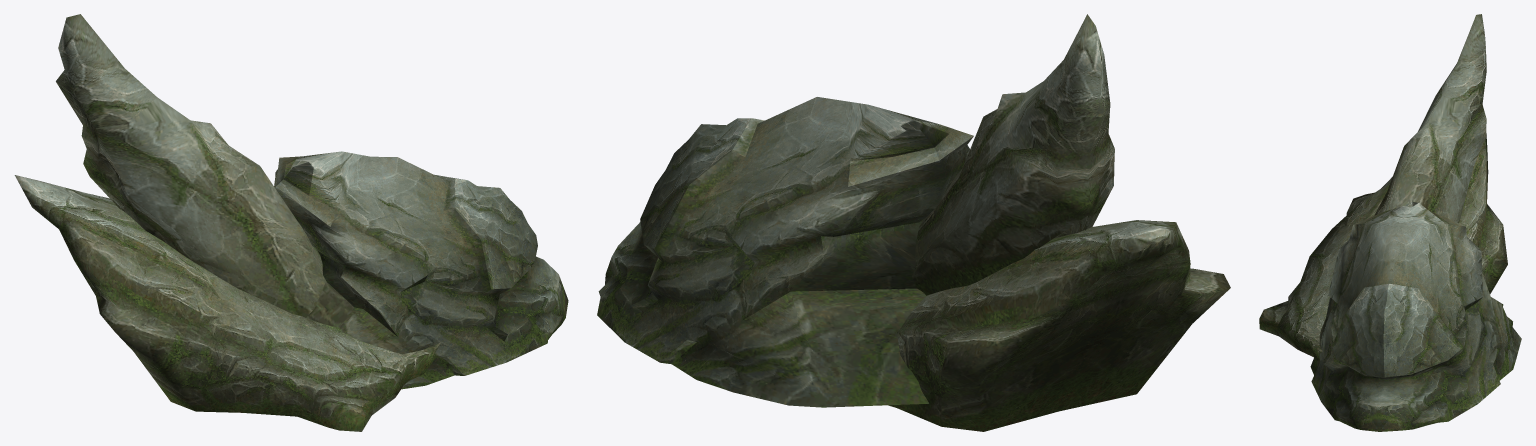
The model's file is 3014_Item_shitou_01.FBX.
3 renders of one model, left to right at view 1: azimuth 30°, elevation 25°; view 2: azimuth 150°, elevation 25°; view 3: azimuth 270°, elevation 25°, orthographic. The views are drawn at different scales.
Visible parts, largest first — view 1: 3014_Item_shitou_01; view 2: 3014_Item_shitou_01; view 3: 3014_Item_shitou_01.
Part boxes in pixels (left/top/right/bottom): 3014_Item_shitou_01: left=14, top=14, right=568, bottom=431; 3014_Item_shitou_01: left=597, top=14, right=1230, bottom=431; 3014_Item_shitou_01: left=1259, top=14, right=1521, bottom=431.
Size of the model in its own units: 945 by 655 by 583.
